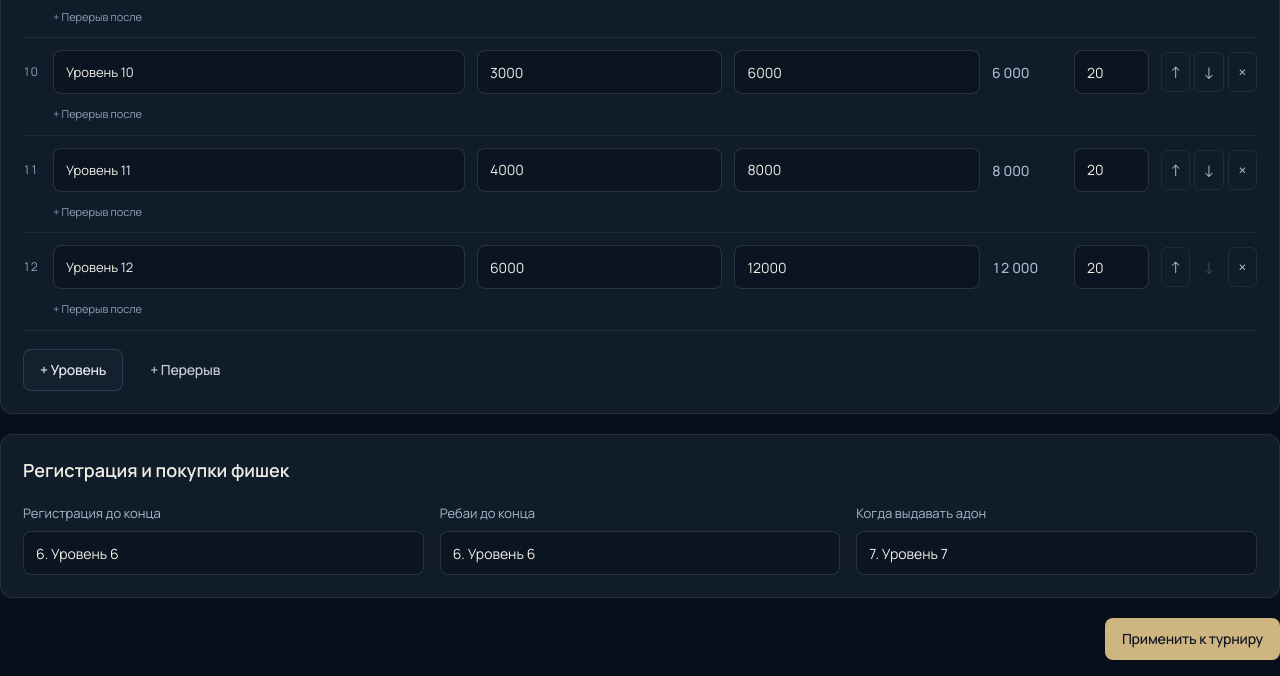
Test: blind editor › does not apply tournament settings without confirmation, and rejects invalid duration
The image size is (1280, 676).
(page scrolled)
Click the button "Применить к турниру" at point(1192, 639), box [1105, 618, 1279, 660]
(page scrolled)
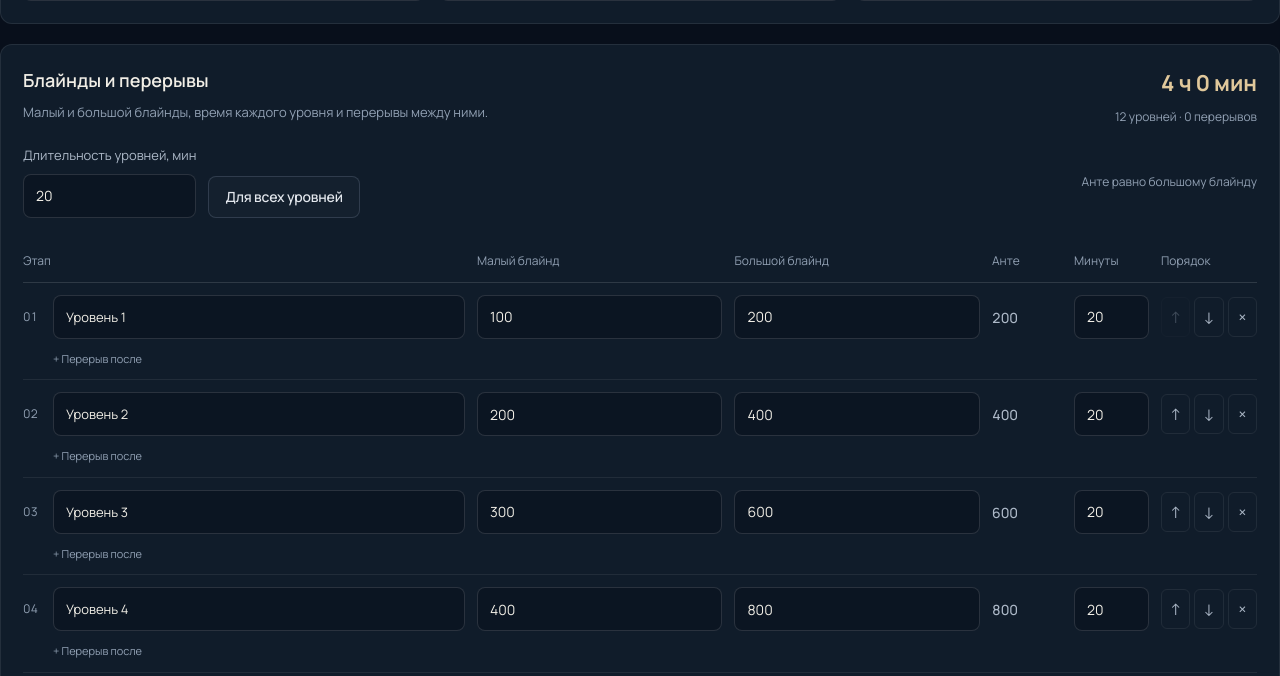
Replace the text in the number field named "Минуты этапа 1" with "0" at point(1112, 316), box [1074, 294, 1149, 338]
(page scrolled)
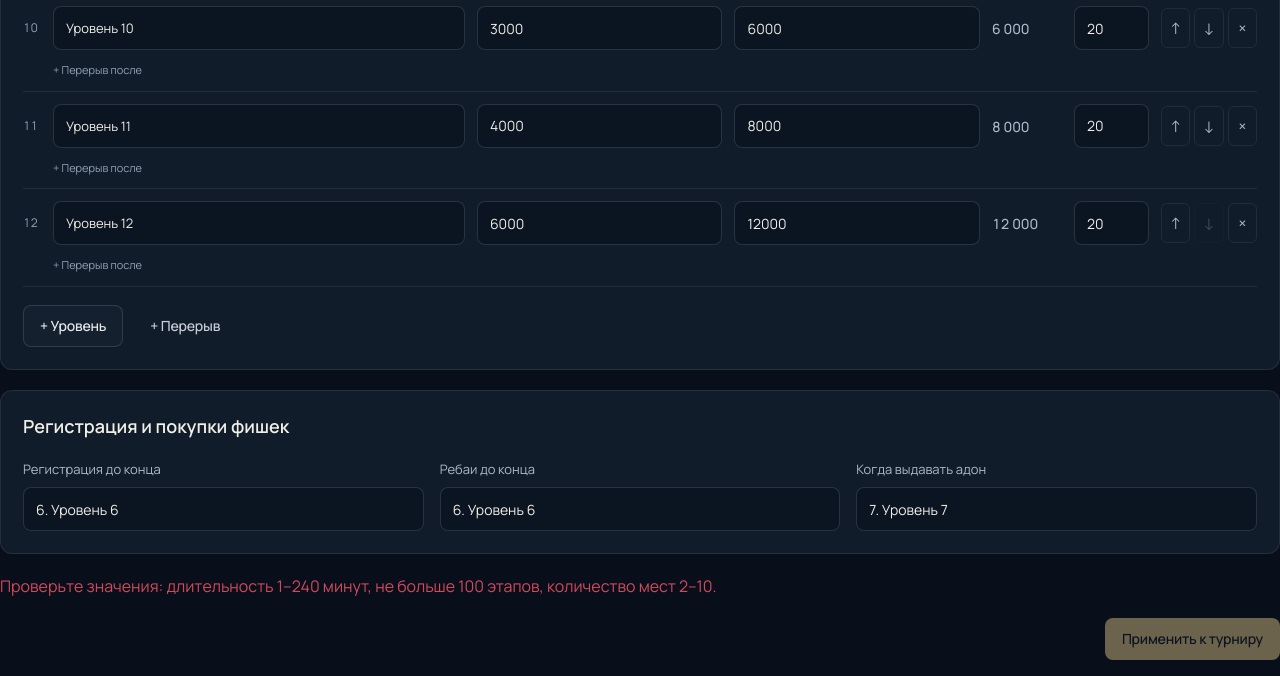
Check: the button "Применить к турниру" is disabled, box [1105, 618, 1279, 660]
